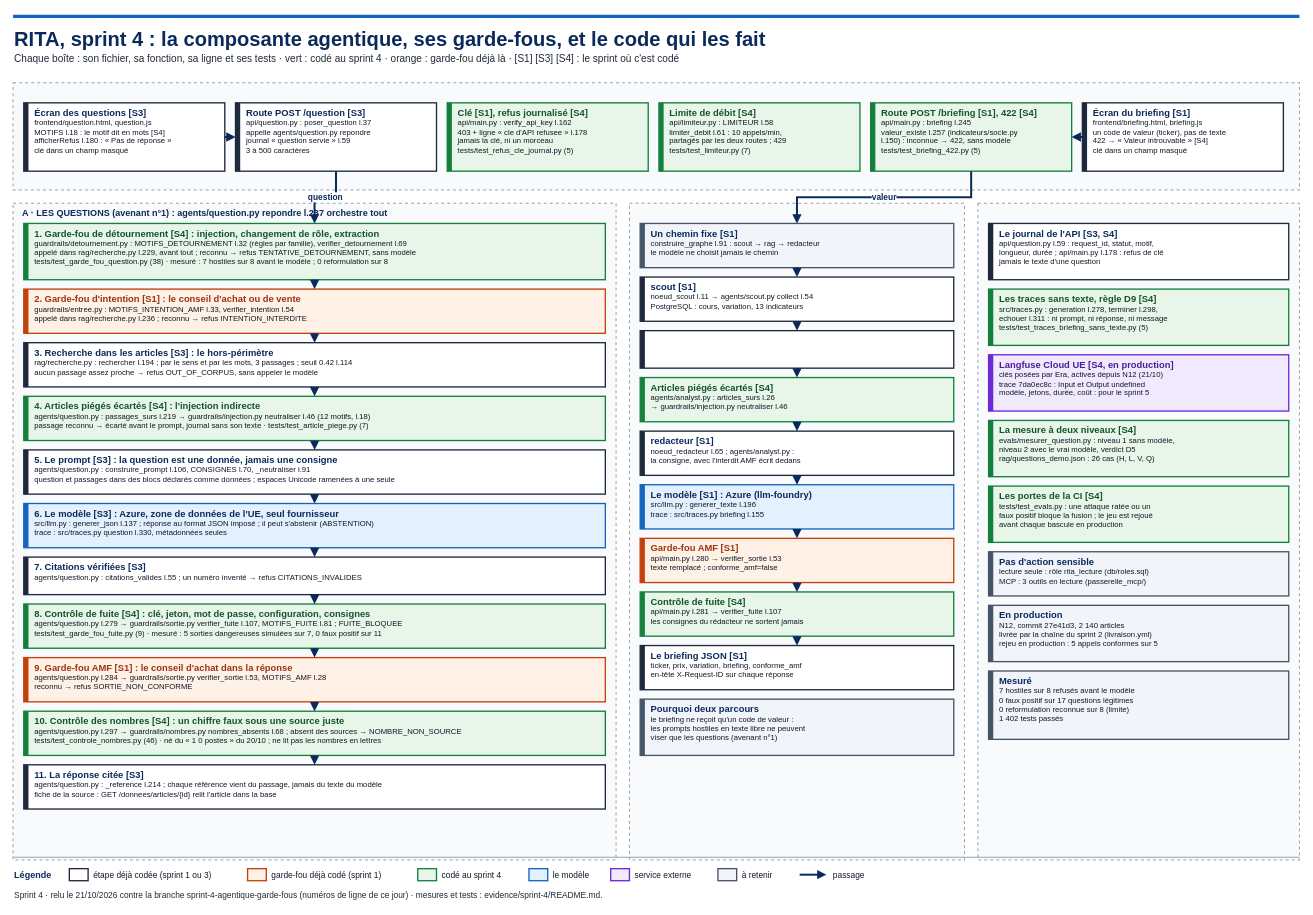
Image size: 1313x915. Some labels were removed from this diagram. The shapes that lost their labels are listed below. From the top down, each one's box as (x1, y1, x2, y2) in pixels, then its label:
(12, 82, 1300, 190): 0 · LES ÉCRANS ET L'API : PAR OÙ TOUT ENTRE (frontend/, api/)
(639, 330, 954, 368): rag [S1] noeud_rag l.21 : les articles de la valeur
(629, 203, 965, 860): B · LE BRIEFING [S1] : graph/workflow.py (LangGraph)
(977, 203, 1300, 860): C · TRACE SANS TEXTE, MESURE, PRODUCTION
